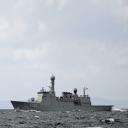Fragata: (11, 71, 117, 114)
